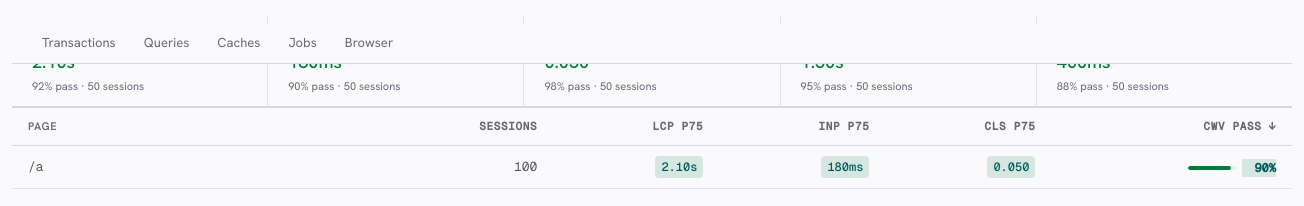
Test: BrowserView › sorting › sets asc direction when switching to the Page (transaction) column
# First click Sessions to switch away from default
Click the button with class "col-sort" showing "Sessions": (463, 126) [373,108,553,144]
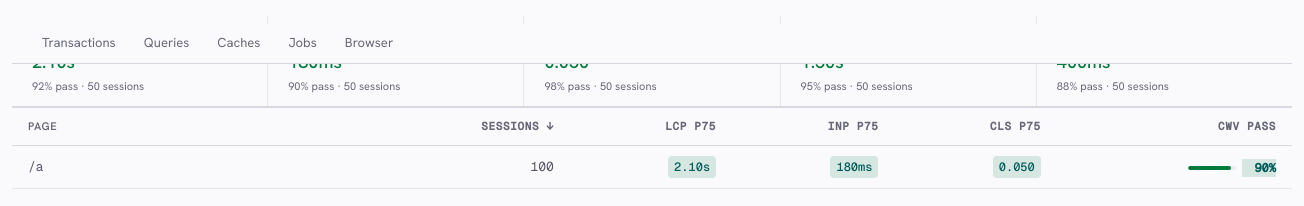
# Then click Page to switch to transaction (should set asc)
Click the button with class "col-sort" showing "Page": (43, 126) [12,108,365,144]
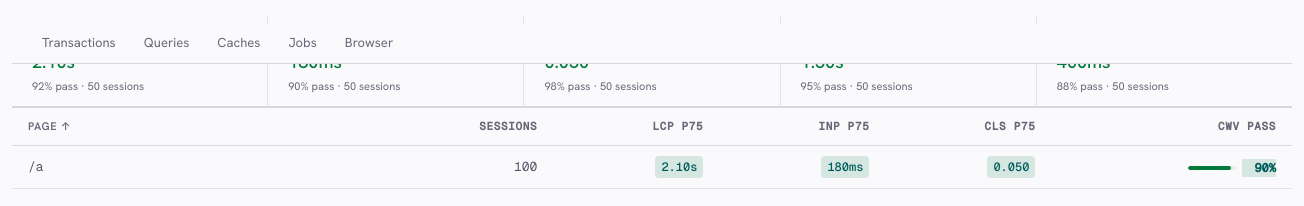
Expected: the button with class "col-sort" shows "↑", [12,108,373,144]
